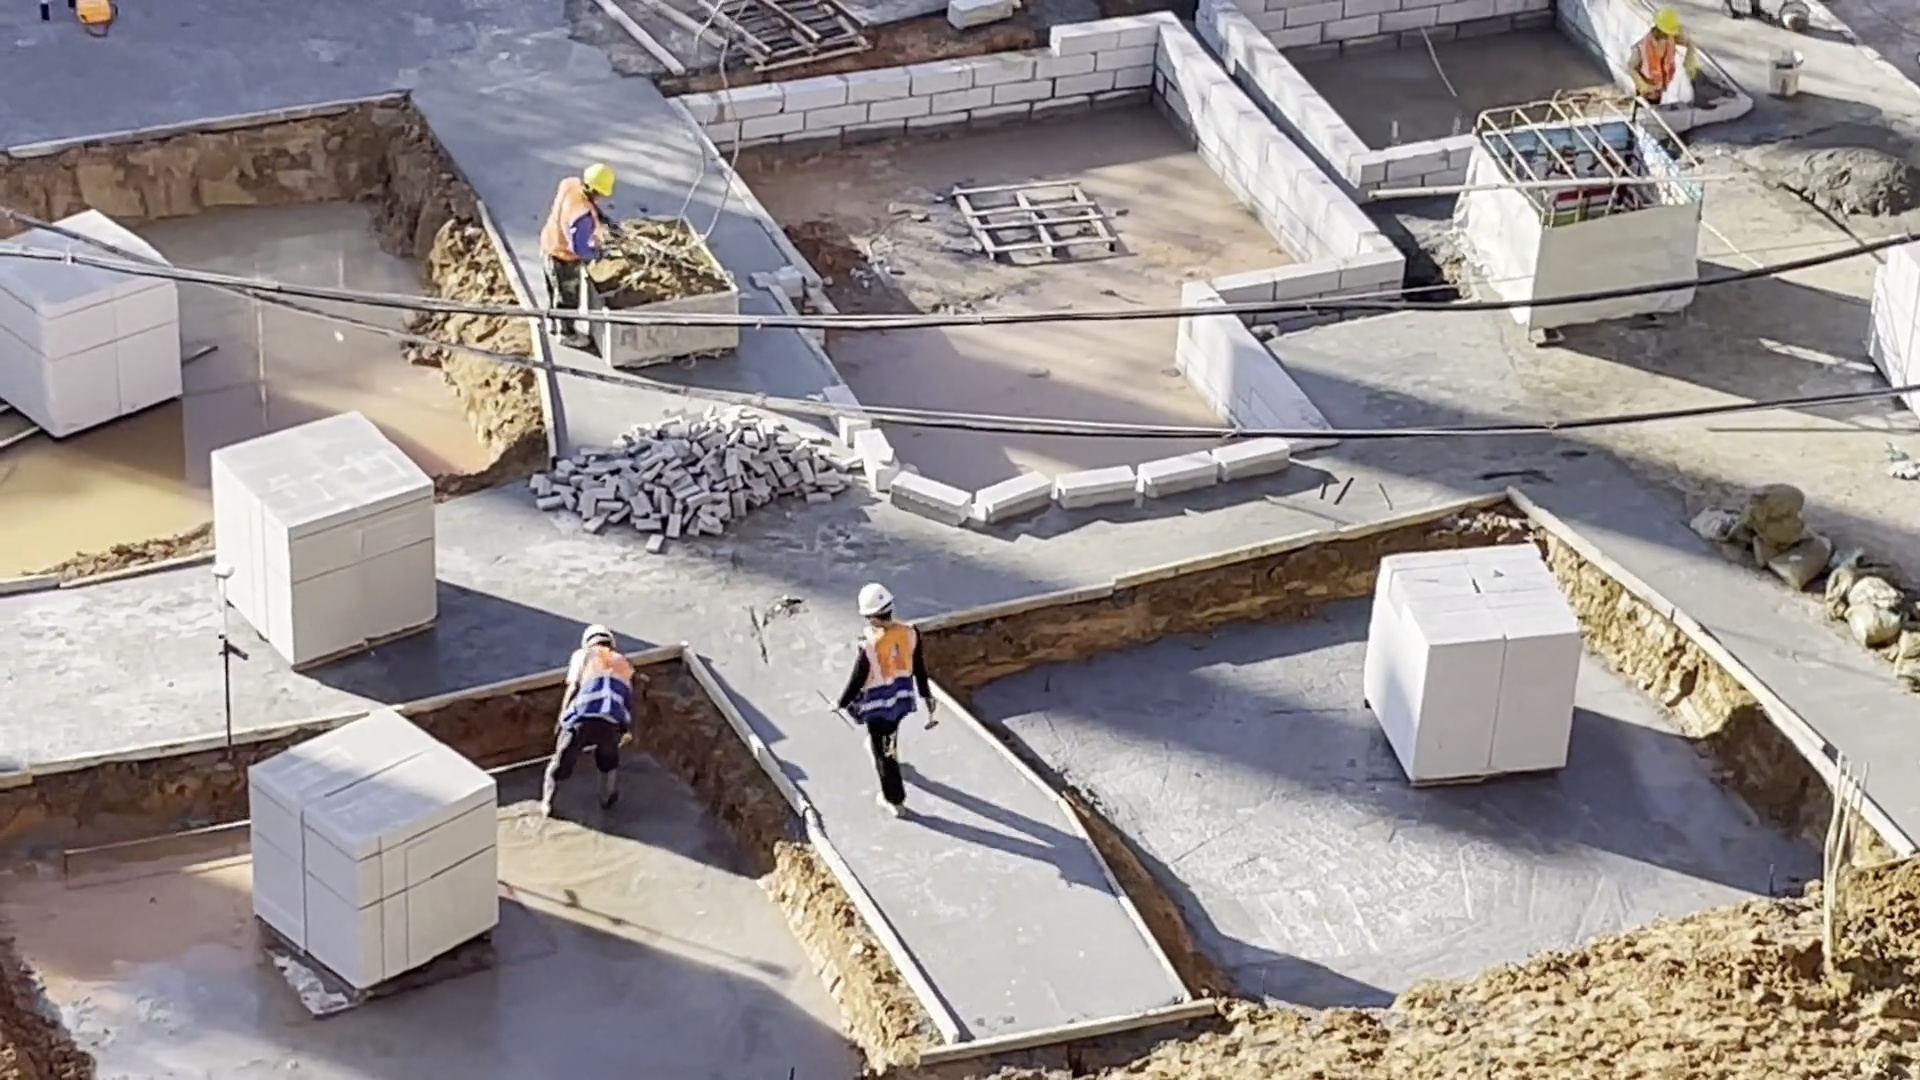helmet: (854, 582, 896, 620), (579, 161, 614, 201), (574, 617, 614, 645), (1653, 8, 1682, 37)
person: (826, 580, 940, 822), (529, 619, 647, 815), (537, 160, 616, 349), (1629, 8, 1701, 107)
vest: (859, 623, 922, 727), (570, 645, 635, 732), (542, 176, 600, 262), (1634, 32, 1679, 95)
